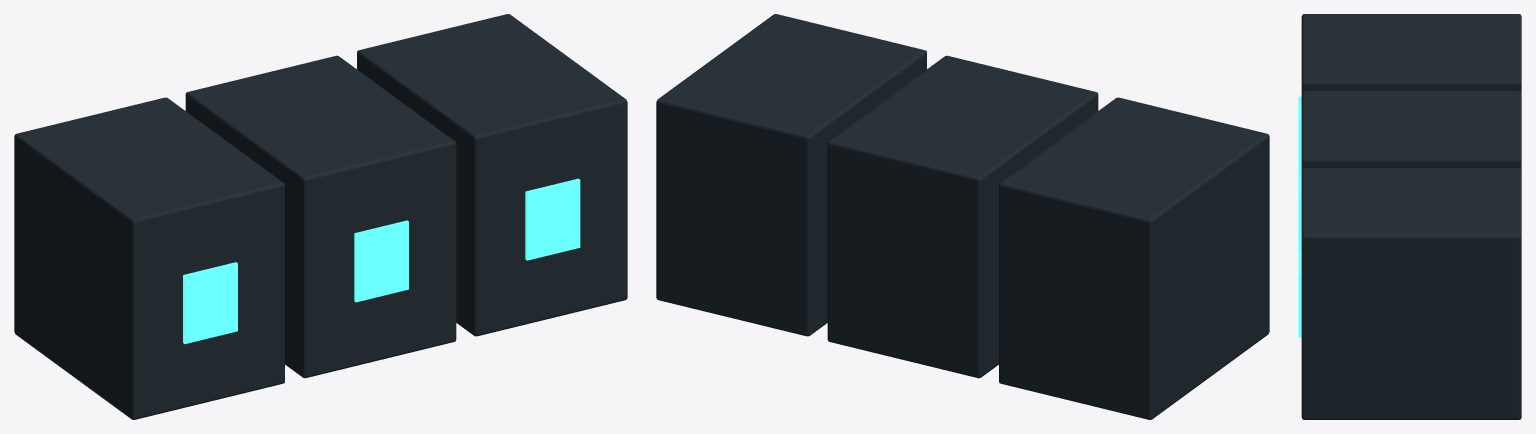
Rendered from CC_S16_P2_Expansion_Server_UPS_LOD0.fbx.
3 renders of one model, left to right at view 1: azimuth 30°, elevation 25°; view 2: azimuth 150°, elevation 25°; view 3: azimuth 270°, elevation 25°, orthographic. The views are drawn at different scales.
Visible parts, largest first — view 1: CC_S16_P2_Expansion_Server_UPS_LOD0; view 2: CC_S16_P2_Expansion_Server_UPS_LOD0; view 3: CC_S16_P2_Expansion_Server_UPS_LOD0.
Boxes of the visible parts, box(x1,y1,x2,y2) form: CC_S16_P2_Expansion_Server_UPS_LOD0: box(14, 14, 627, 419); CC_S16_P2_Expansion_Server_UPS_LOD0: box(656, 14, 1269, 419); CC_S16_P2_Expansion_Server_UPS_LOD0: box(1298, 14, 1521, 419).
Size of what is drawn, in the model's own units: 1.68 by 0.65 by 0.711.
